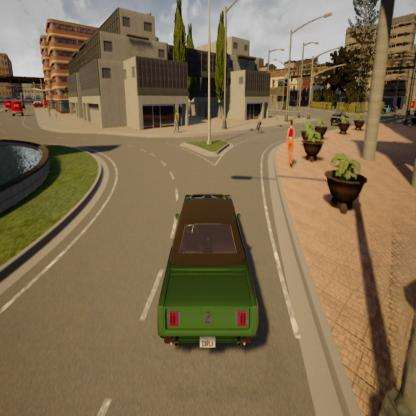Cars: (152, 187, 264, 368), (331, 106, 350, 126), (10, 99, 25, 119)
Pedestrian: (283, 120, 301, 171), (171, 108, 183, 135)
